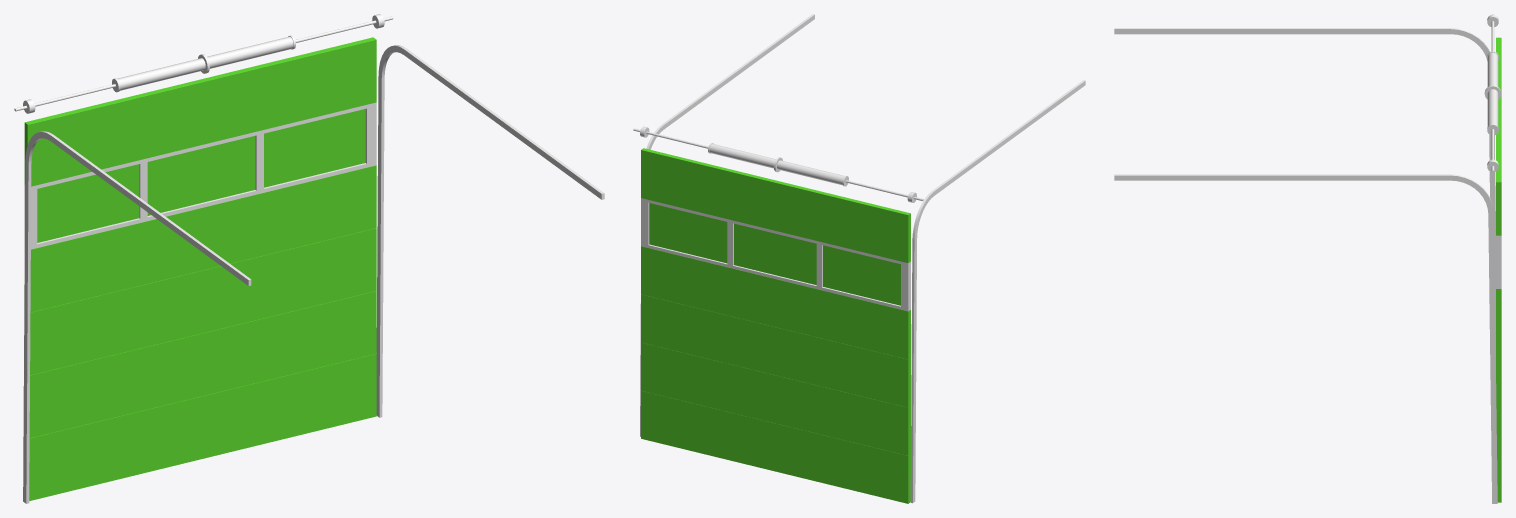
Rendered from doors2.glb.
3 views of the same model, side by side, from view 1: azimuth 30°, elevation 25°; view 2: azimuth 150°, elevation 25°; view 3: azimuth 270°, elevation 25° (orthographic). The views are drawn at different scales.
Parts seen in each view (by area): view 1: Mesh_1, Mesh_0, Mesh_2, Mesh_3, Mesh_4, Mesh_5, Mesh_7, Mesh_6, Mesh_8; view 2: Mesh_1, Mesh_2, Mesh_4, Mesh_0, Mesh_3, Mesh_5, Mesh_7, Mesh_6, Mesh_8; view 3: Mesh_7, Mesh_8, Mesh_1.
Part boxes in pixels (box(x1,y1,x2,y2)): Mesh_1: box(24, 37, 376, 186); Mesh_0: box(29, 354, 376, 500); Mesh_2: box(29, 291, 376, 437); Mesh_3: box(30, 228, 376, 375); Mesh_4: box(30, 165, 376, 312); Mesh_5: box(37, 109, 365, 242); Mesh_7: box(23, 45, 604, 503); Mesh_6: box(24, 102, 376, 249); Mesh_8: box(14, 14, 393, 113); Mesh_1: box(641, 148, 910, 262); Mesh_2: box(641, 342, 910, 455); Mesh_4: box(641, 246, 910, 359); Mesh_0: box(641, 390, 910, 503); Mesh_3: box(641, 294, 910, 407); Mesh_5: box(649, 203, 900, 305); Mesh_7: box(640, 14, 1085, 503); Mesh_6: box(641, 198, 910, 311); Mesh_8: box(633, 126, 923, 202); Mesh_7: box(1114, 28, 1497, 503); Mesh_8: box(1484, 14, 1501, 172); Mesh_1: box(1496, 37, 1501, 235).
Size of the model in its own units: 3.35 by 3.44 by 3.51.
